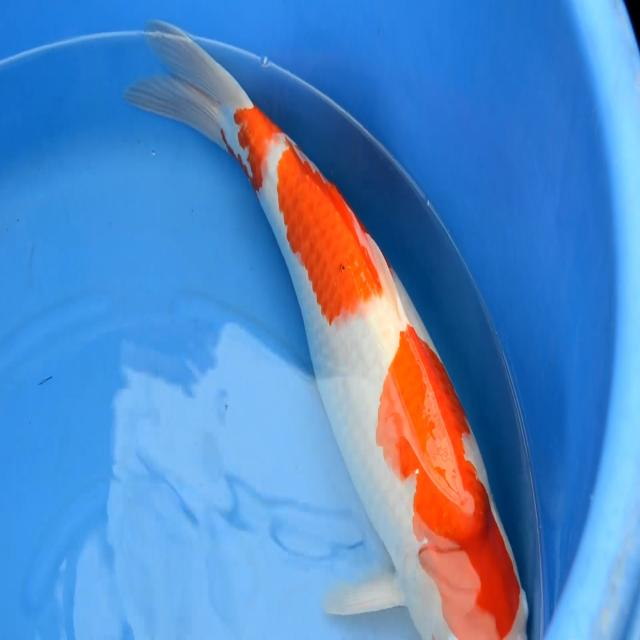Kohaku: (122, 18, 530, 638)
